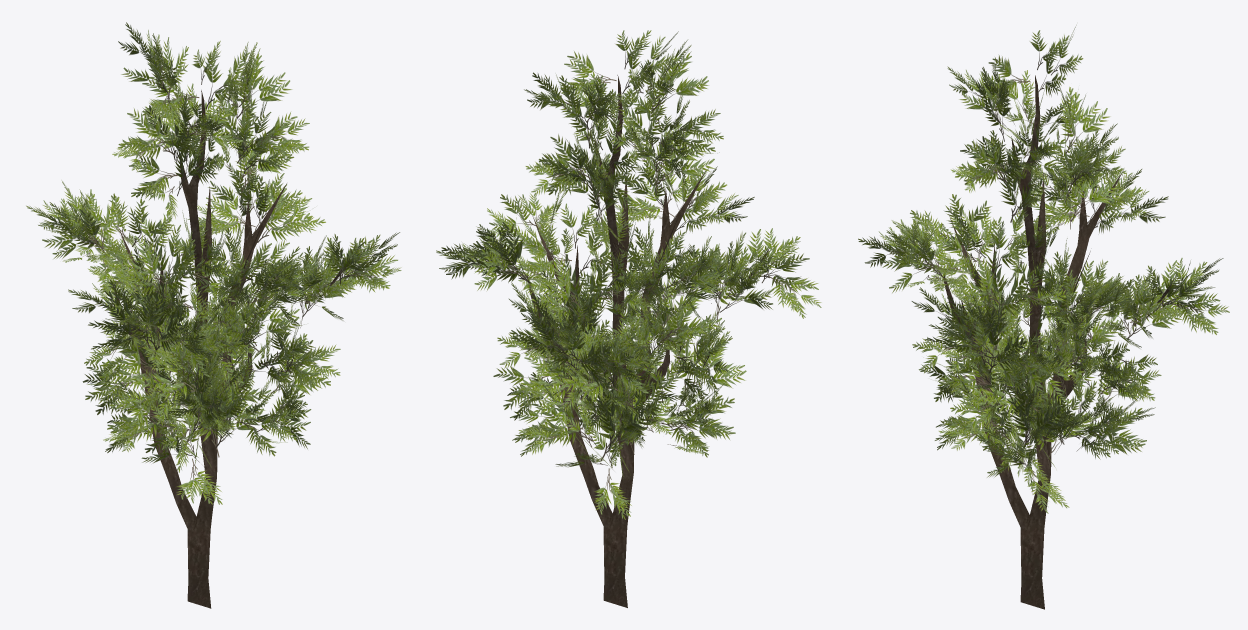
Rendered from tree-2.glb.
The picture shows the model from 3 angles, left to right: view 1: azimuth 30°, elevation 25°; view 2: azimuth 150°, elevation 25°; view 3: azimuth 270°, elevation 25°; orthographic projection. The views are drawn at different scales.
Parts seen in each view (by area): view 1: leaves, bark; view 2: leaves, bark; view 3: leaves, bark.
Part boxes in pixels (x1=…): leaves: x1=26, y1=22, x2=401, y2=504; bark: x1=113, y1=90, x2=347, y2=608; leaves: x1=436, y1=30, x2=821, y2=519; bark: x1=527, y1=75, x2=769, y2=607; leaves: x1=858, y1=25, x2=1229, y2=513; bark: x1=944, y1=75, x2=1172, y2=609.
Size of the model in its own units: 0.5933 by 1 by 0.6001.
Materials: 2 (2 with a texture image).
